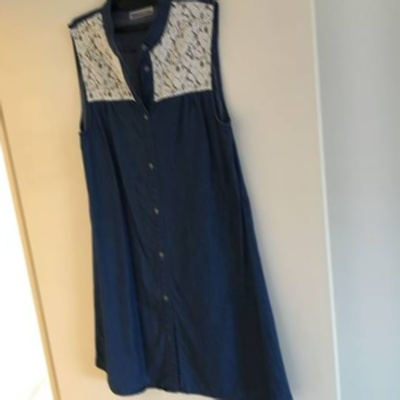Dress: (40, 0, 304, 400)
